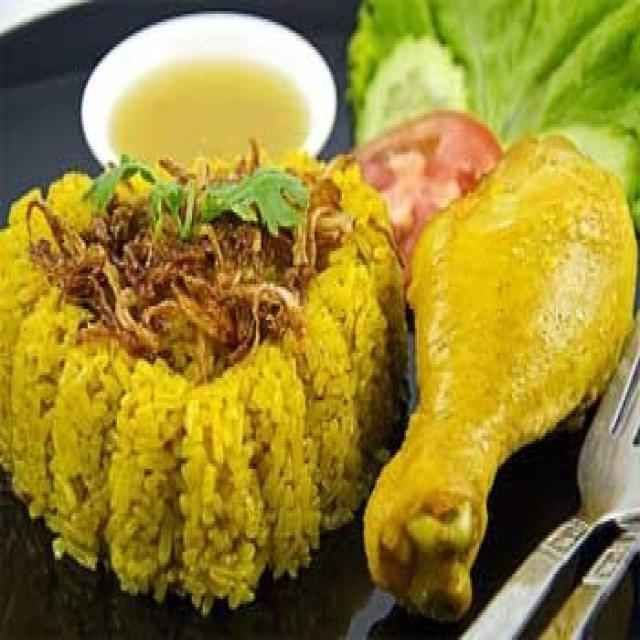米饭主食: (8, 17, 616, 626)
